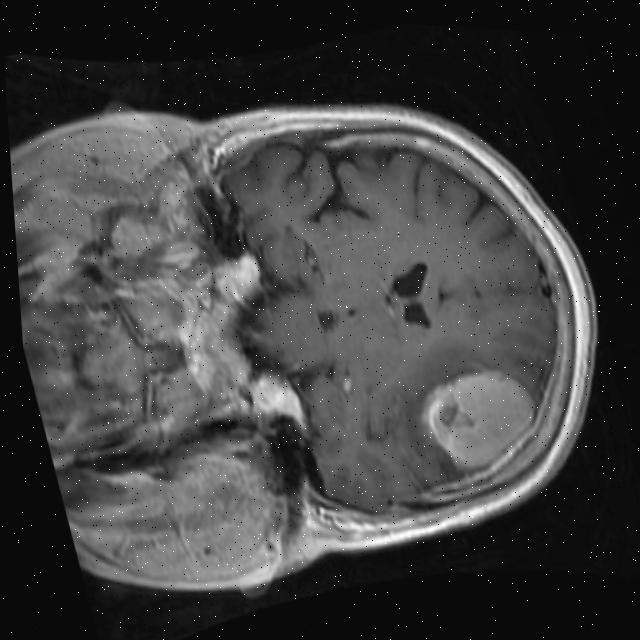Meningioma: (408, 355, 553, 485)
